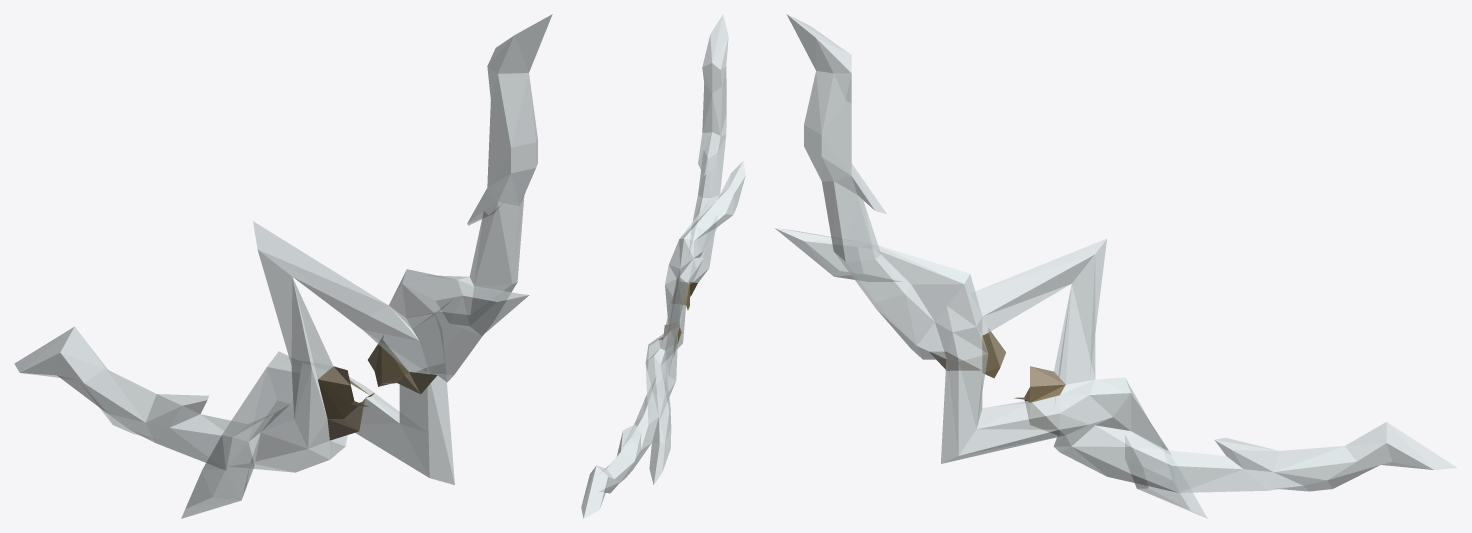
The model's file is player_bow_of_faerdhinen.glb.
3 renders of one model, left to right at view 1: azimuth 30°, elevation 25°; view 2: azimuth 150°, elevation 25°; view 3: azimuth 270°, elevation 25°, orthographic. The views are drawn at different scales.
Bounding box in the file's own units: 25.94 × 103 × 115.
2 materials, 2 textured.
